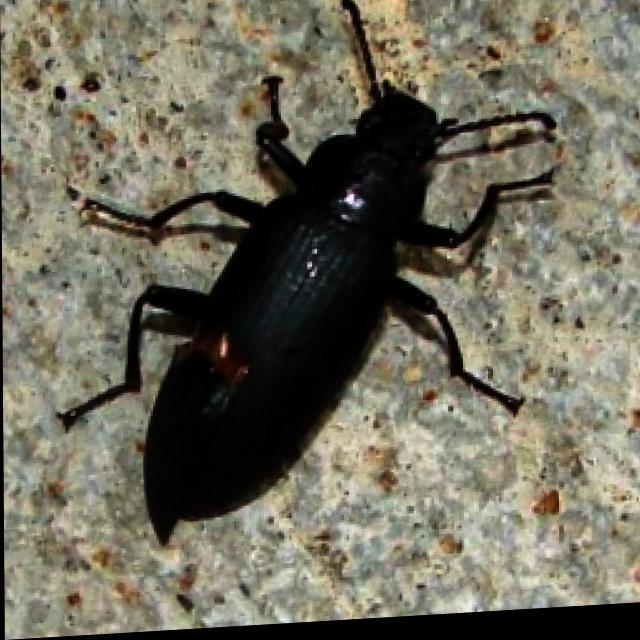cockroach: (52, 2, 566, 548)
